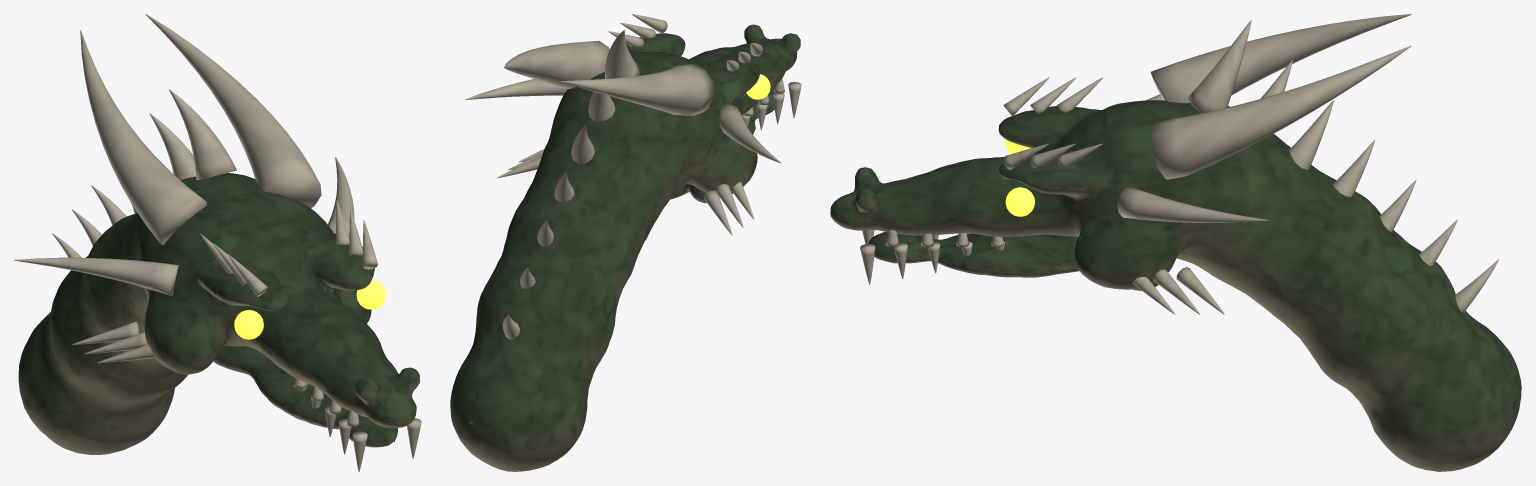
The model's file is Nidhogg.fbx.
3 views of the same model, side by side, from view 1: azimuth 30°, elevation 25°; view 2: azimuth 150°, elevation 25°; view 3: azimuth 270°, elevation 25° (orthographic). The views are drawn at different scales.
Visible parts, largest first — view 1: Skull, Jaw, Eyes; view 2: Skull, Jaw, Eyes; view 3: Skull, Jaw, Eyes.
Boxes of the visible parts, bbox=[...] form: Skull: bbox=[14, 14, 421, 471]; Jaw: bbox=[213, 345, 397, 447]; Eyes: bbox=[234, 280, 386, 339]; Skull: bbox=[450, 14, 801, 471]; Jaw: bbox=[670, 78, 784, 203]; Eyes: bbox=[746, 74, 770, 99]; Skull: bbox=[830, 14, 1521, 471]; Jaw: bbox=[868, 230, 1158, 290]; Eyes: bbox=[1005, 139, 1034, 216].
Bounding box in the file's own units: 1.9 × 2.32 × 3.35.
